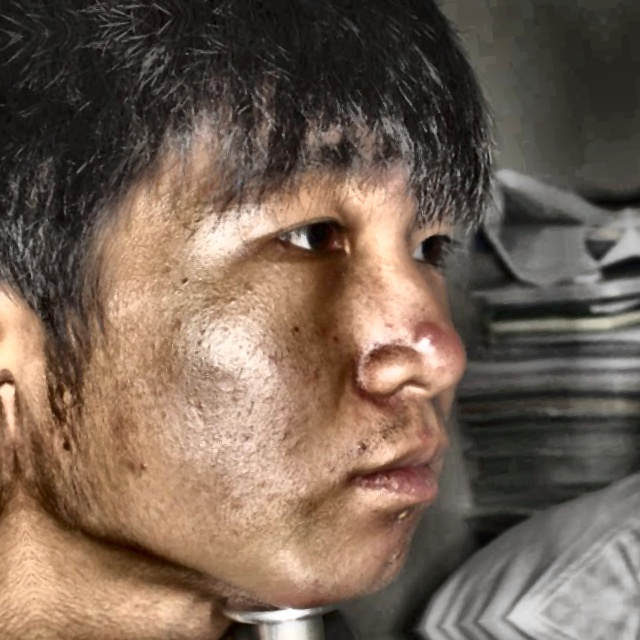comedone: (412, 310, 449, 348)
